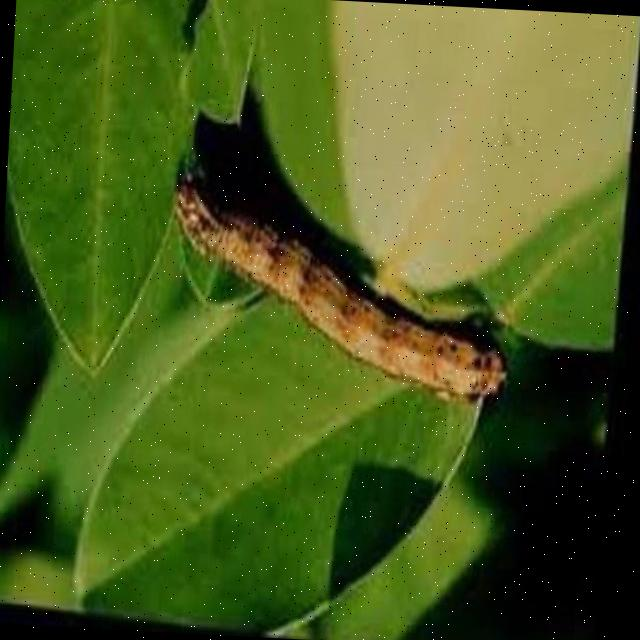worm: (164, 167, 520, 411)
